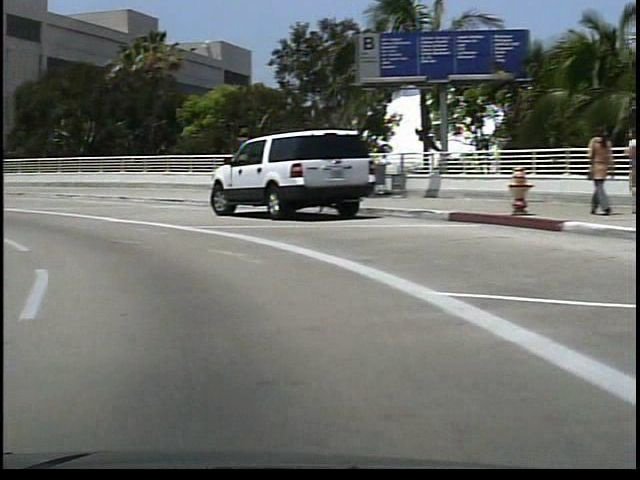person: (575, 123, 605, 219)
